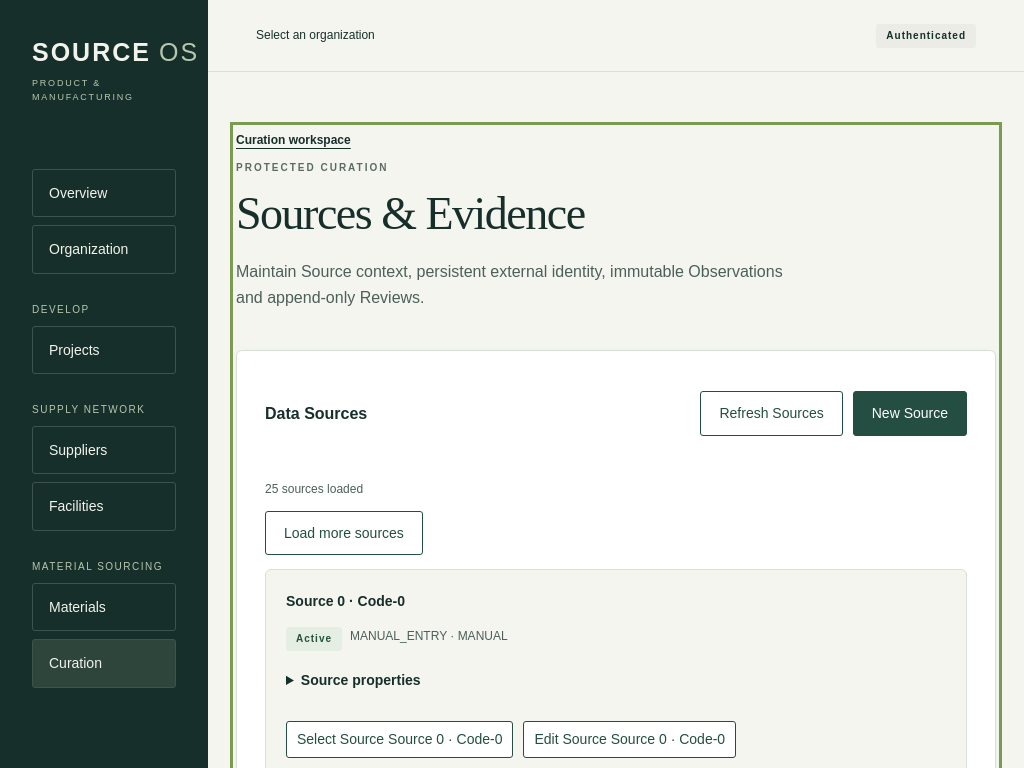
an exact 25-row page permits a final empty page without inventing totals
Expected: the text "25 sources loaded" is shown, x1=265 y1=482 x2=363 y2=496
Click the button "Load more sources" at (344, 533), box x1=265 y1=511 x2=423 y2=555
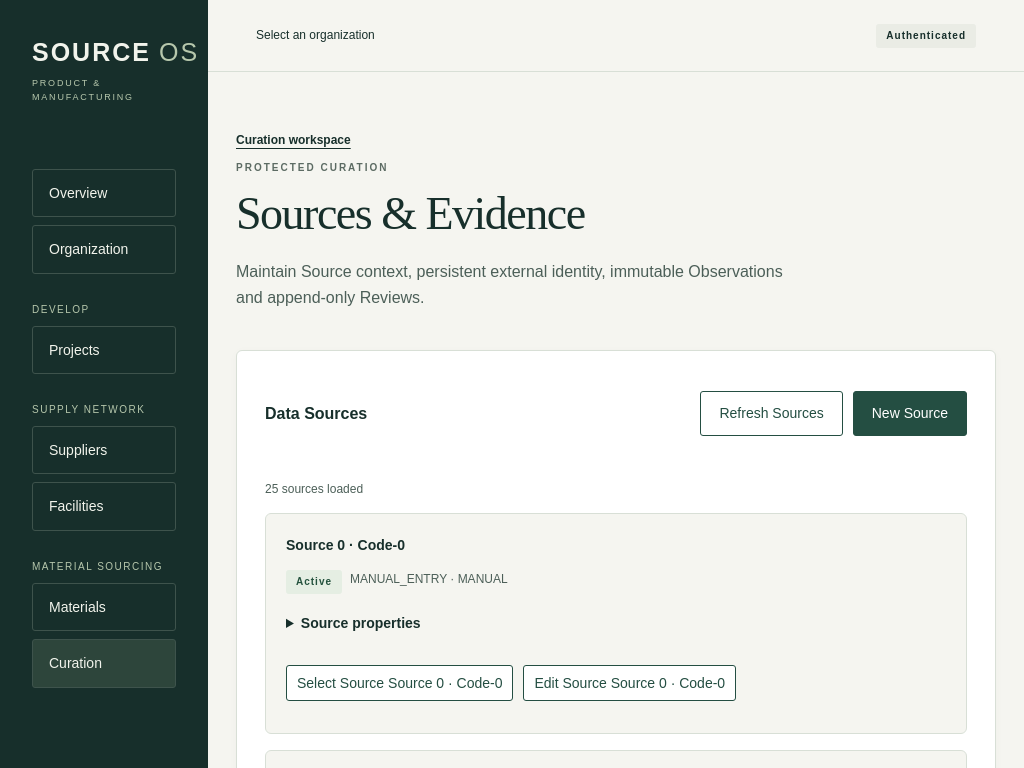
Expected: the button "Load more sources" is gone
